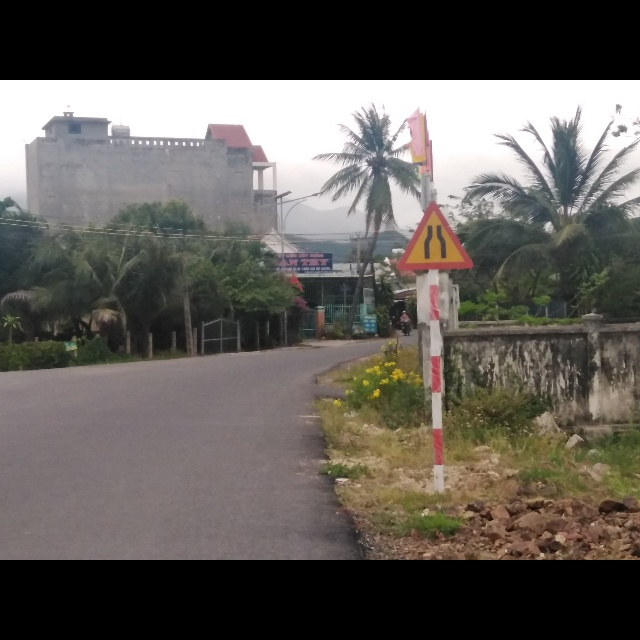Đường bị hẹp cả hai bên: (399, 201, 473, 269)
